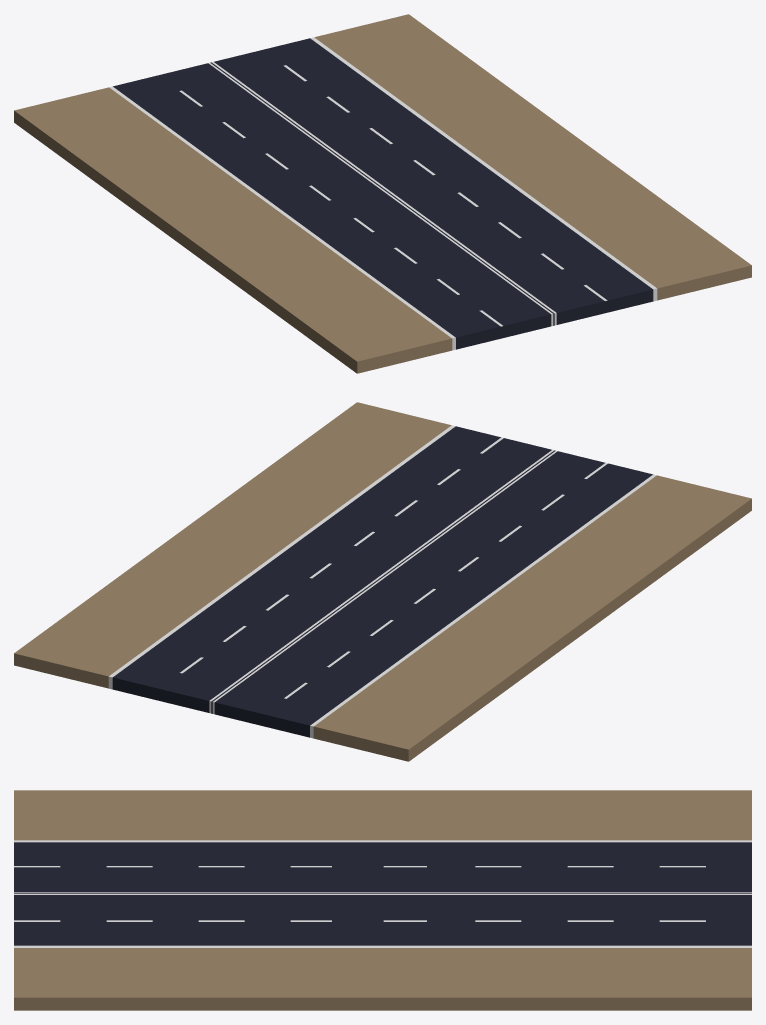
The model's file is CityRoadDuo001.fbx.
3 views of the same model, one above another, from view 1: azimuth 30°, elevation 25°; view 2: azimuth 150°, elevation 25°; view 3: azimuth 270°, elevation 25° (orthographic). The views are drawn at different scales.
Visible parts, largest first — view 1: Cube; view 2: Cube; view 3: Cube.
Boxes of the visible parts, x1=… form: Cube: x1=14, y1=14, x2=751, y2=373; Cube: x1=14, y1=402, x2=751, y2=761; Cube: x1=14, y1=790, x2=751, y2=1010.
Bounding box in the file's own units: 401 × 11.74 × 603.
